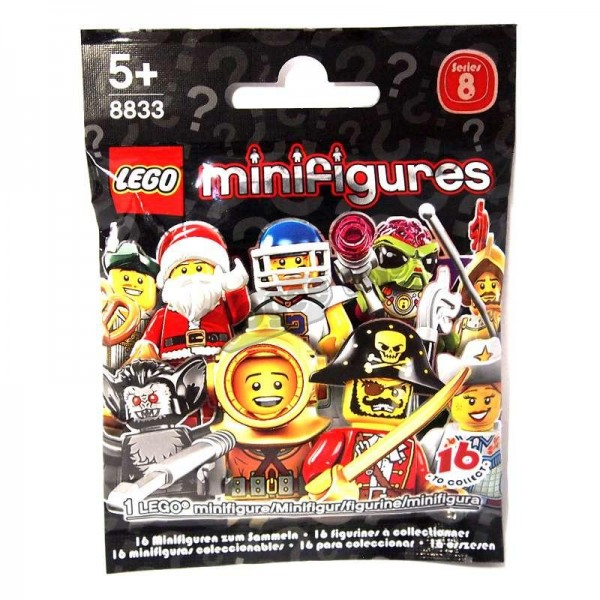LEGO: (98, 139, 191, 225)
